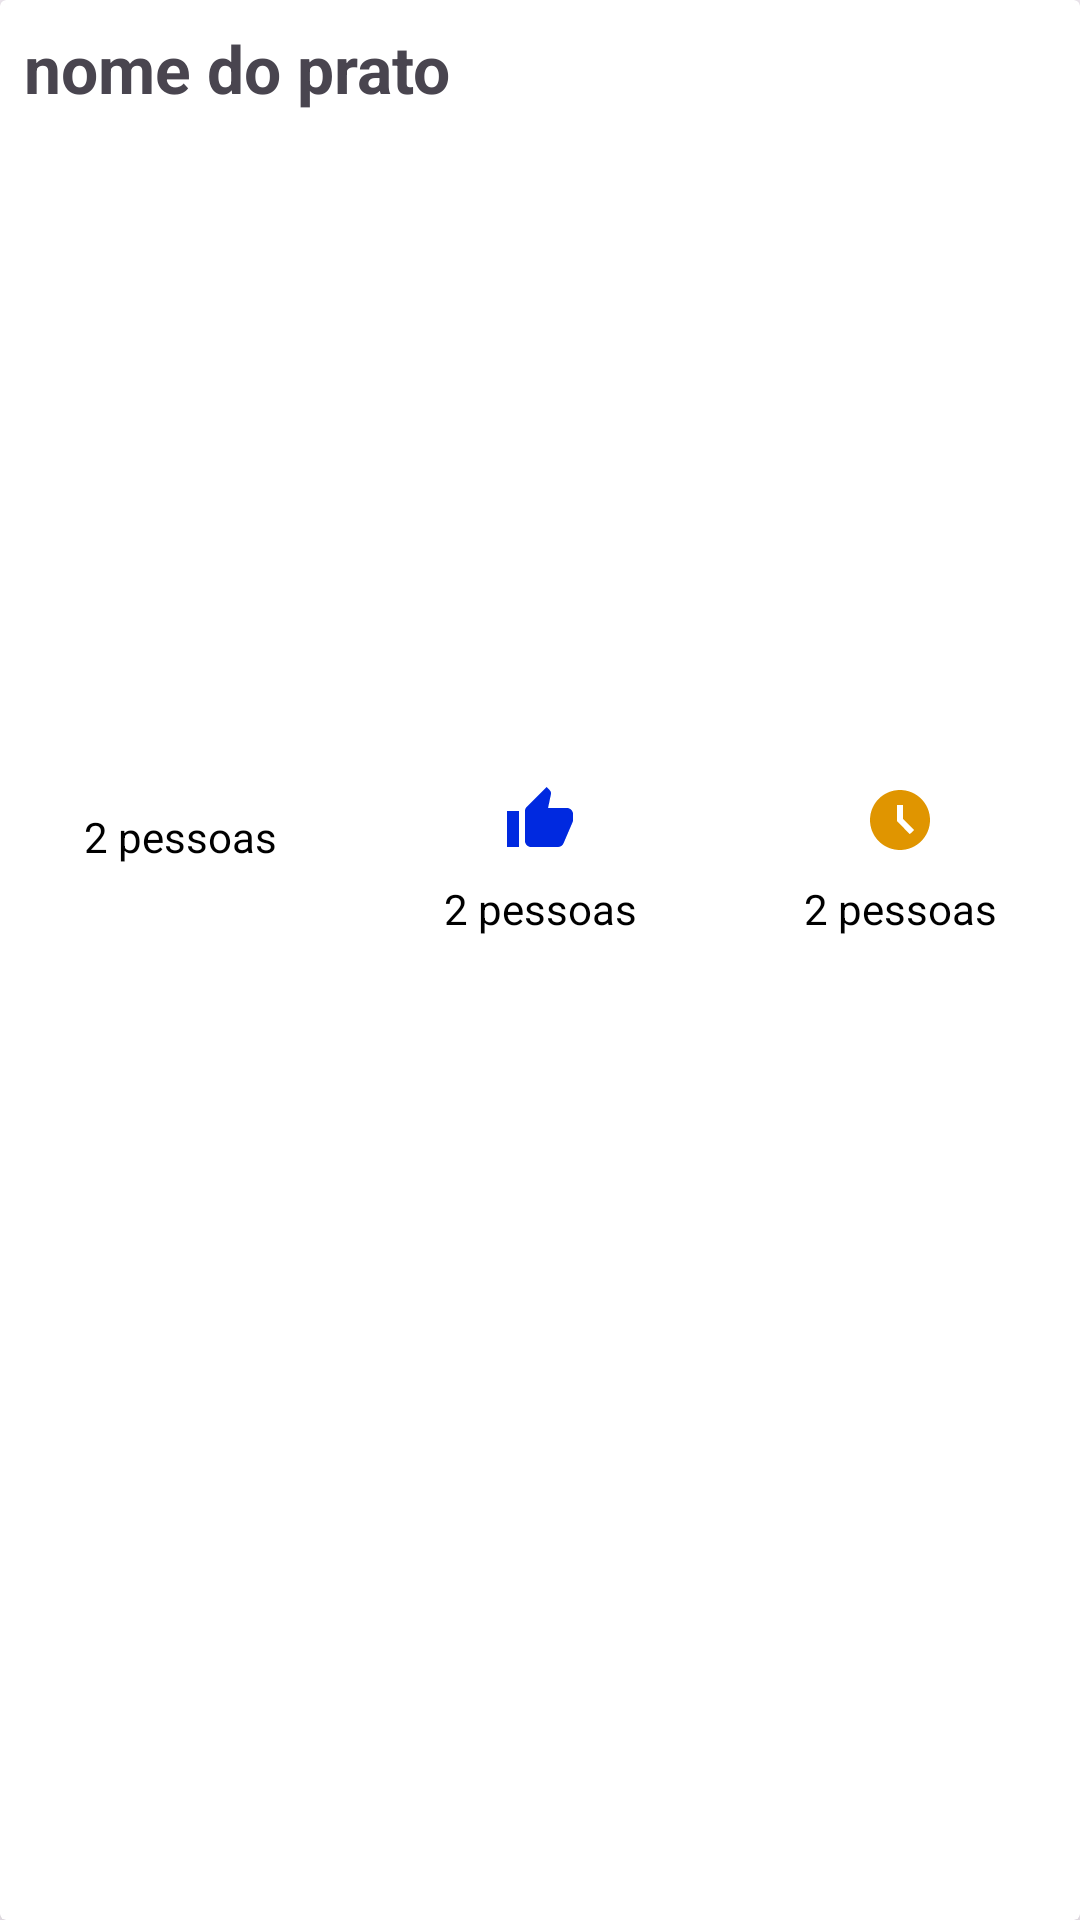

Named icons in this screenshot (1080w x 1920h) and their bounding boxes, bbox=[x1, y1, x2, y2]:
like: bbox=[507, 787, 573, 847]
time: bbox=[870, 790, 930, 850]
